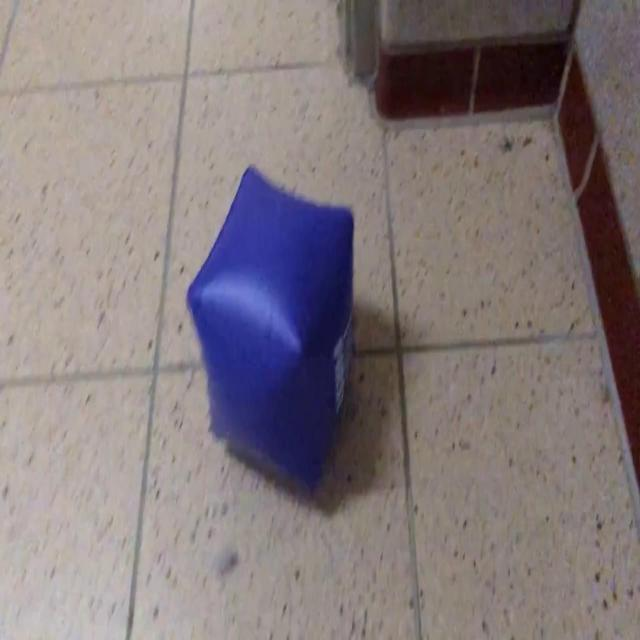frc_cube: (187, 164, 355, 496)
